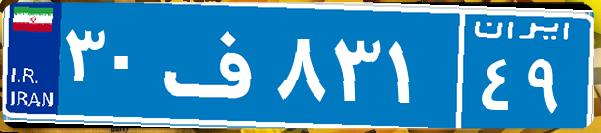0: (110, 28, 158, 105)
1: (385, 28, 445, 110)
3: (330, 28, 385, 110), (57, 26, 110, 107)
4: (475, 38, 525, 113)
8: (273, 28, 330, 110)
9: (525, 38, 570, 115)
ف: (158, 15, 273, 115)
